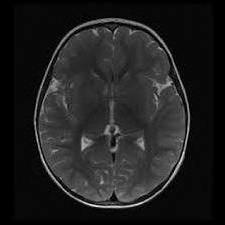Normal_Brain: (12, 6, 216, 225)
